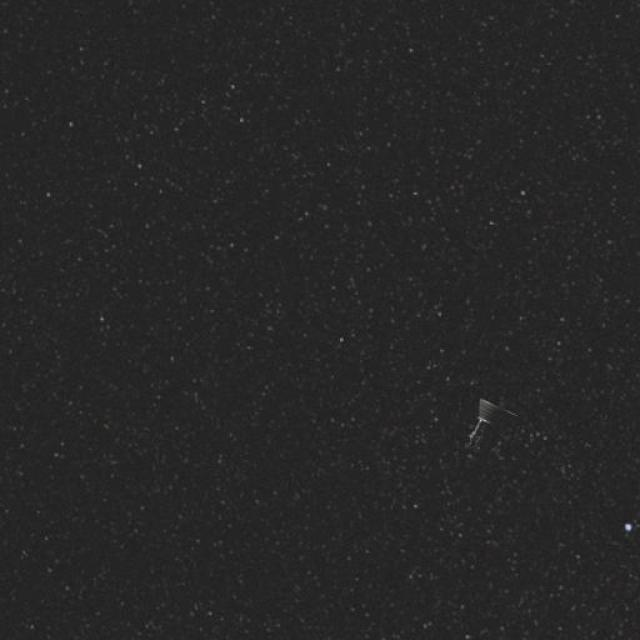debris: (462, 386, 522, 468)
